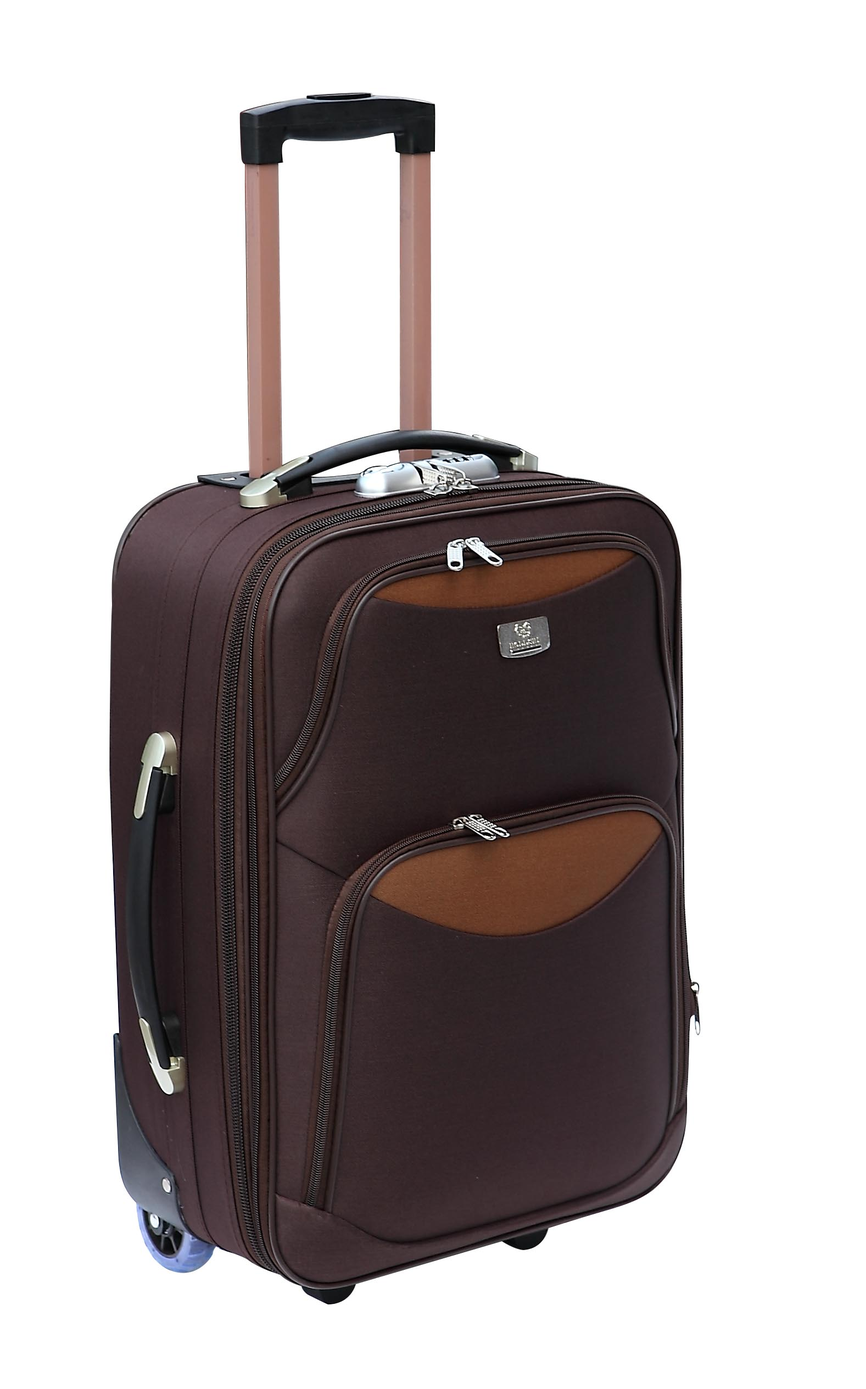box: (111, 468, 694, 1285)
handle: (238, 428, 538, 507), (124, 730, 183, 1096)
lock: (351, 454, 500, 499)
wheel: (134, 1203, 216, 1274)
